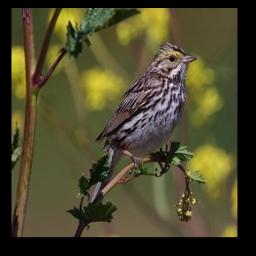Sparrow: (85, 38, 199, 204)
